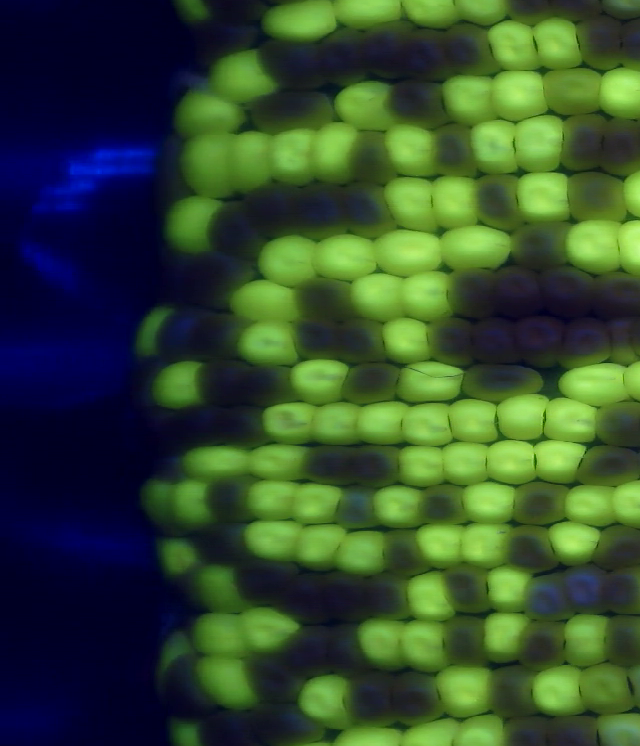fluorescent: (372, 227, 447, 275), (178, 132, 230, 199), (173, 87, 243, 136), (438, 225, 514, 269), (213, 52, 279, 101), (310, 232, 374, 281), (488, 17, 538, 79), (382, 175, 437, 231), (233, 284, 302, 328), (259, 233, 315, 287), (194, 652, 248, 707), (396, 359, 465, 402), (268, 127, 318, 184), (240, 604, 298, 652), (556, 364, 631, 401), (437, 663, 488, 717), (486, 437, 542, 486), (301, 680, 357, 729), (309, 121, 353, 183), (514, 113, 560, 172), (581, 662, 633, 714), (235, 322, 295, 367), (444, 72, 499, 121), (545, 68, 604, 113), (290, 357, 349, 402), (568, 220, 618, 273), (491, 72, 545, 121), (239, 477, 294, 525), (472, 121, 519, 177), (228, 132, 268, 197), (153, 361, 205, 411), (264, 2, 334, 39), (515, 174, 571, 219), (539, 399, 595, 444), (531, 18, 582, 67), (385, 122, 433, 174), (431, 173, 478, 225), (196, 560, 243, 612), (463, 479, 512, 527), (248, 439, 305, 480), (337, 82, 390, 126), (399, 619, 445, 669), (483, 611, 528, 662), (362, 617, 404, 671), (404, 402, 453, 448), (533, 667, 582, 713), (498, 392, 548, 437), (568, 482, 617, 527), (548, 524, 601, 565), (416, 522, 463, 568), (331, 1, 403, 31), (447, 399, 498, 441), (261, 401, 314, 441), (407, 572, 453, 618), (599, 66, 640, 117), (404, 272, 448, 319), (338, 531, 383, 576), (382, 317, 428, 361), (293, 483, 340, 526), (183, 443, 248, 474), (352, 277, 402, 317), (315, 401, 359, 446), (535, 442, 583, 483), (359, 402, 408, 442), (399, 446, 443, 490), (300, 526, 347, 567), (191, 613, 243, 650), (247, 522, 295, 561), (443, 441, 484, 486), (374, 482, 419, 523), (564, 615, 604, 661), (488, 564, 526, 608), (465, 525, 510, 562), (147, 480, 183, 523), (398, 718, 450, 746), (451, 717, 501, 746), (135, 308, 163, 358), (162, 533, 195, 575), (600, 713, 640, 746), (177, 486, 208, 527), (159, 630, 184, 677)
nonfluorescent: (250, 88, 333, 128), (247, 704, 325, 746), (185, 22, 248, 73), (259, 41, 327, 88), (238, 553, 297, 607), (243, 182, 295, 240), (462, 366, 542, 402), (193, 256, 249, 307), (390, 672, 443, 725), (207, 201, 258, 256), (540, 262, 593, 314), (245, 653, 300, 703), (391, 79, 445, 129), (513, 481, 570, 528), (578, 15, 624, 73), (570, 172, 624, 221), (323, 28, 366, 89), (166, 656, 209, 717), (513, 217, 568, 264), (343, 672, 390, 727), (345, 183, 392, 237), (296, 183, 343, 237), (448, 269, 503, 315), (343, 360, 399, 405), (478, 173, 522, 230), (443, 614, 487, 671), (556, 117, 603, 170), (578, 445, 640, 485), (366, 22, 407, 82), (515, 318, 563, 368), (563, 319, 611, 369), (434, 123, 481, 174), (407, 28, 451, 82), (196, 311, 245, 359), (326, 621, 368, 677), (451, 22, 495, 75), (488, 667, 535, 716), (520, 622, 566, 672), (288, 317, 337, 363), (443, 565, 489, 614), (593, 400, 640, 447), (511, 527, 558, 574), (198, 524, 248, 568), (298, 277, 350, 319), (498, 266, 540, 318), (469, 318, 515, 365), (603, 117, 640, 175), (324, 567, 363, 622), (338, 319, 384, 365), (207, 475, 253, 520), (154, 314, 198, 361), (304, 447, 357, 486), (426, 317, 469, 365), (526, 574, 569, 622), (218, 407, 267, 448), (380, 531, 423, 577), (243, 364, 292, 404), (199, 707, 253, 743), (365, 574, 409, 618), (350, 135, 392, 181), (291, 625, 328, 677), (287, 574, 325, 624), (605, 616, 640, 670), (598, 524, 640, 569), (567, 566, 608, 612), (167, 408, 215, 447), (593, 272, 640, 311), (423, 481, 464, 523), (353, 447, 399, 484), (605, 568, 640, 616), (198, 364, 243, 399), (336, 488, 374, 528), (609, 318, 640, 362)
